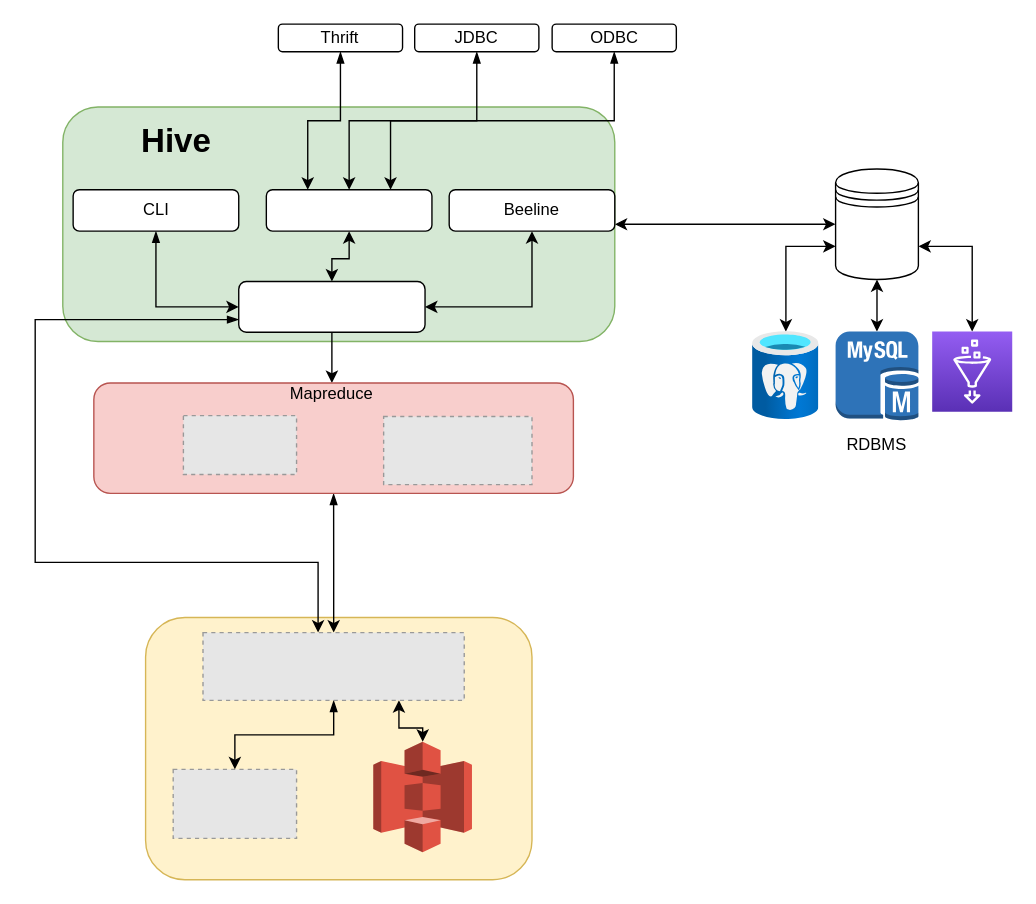
The diagram is 1036 pixels wide and 904 high, and some of its shapes have lost their labels. Grey dashed boxes stand in for pictures. Here are the shapes that lost their labels. From the top down, the box of each, then its label:
(265, 188, 432, 231): Server
(834, 168, 918, 279): Metastore
(237, 280, 425, 332): Driver
